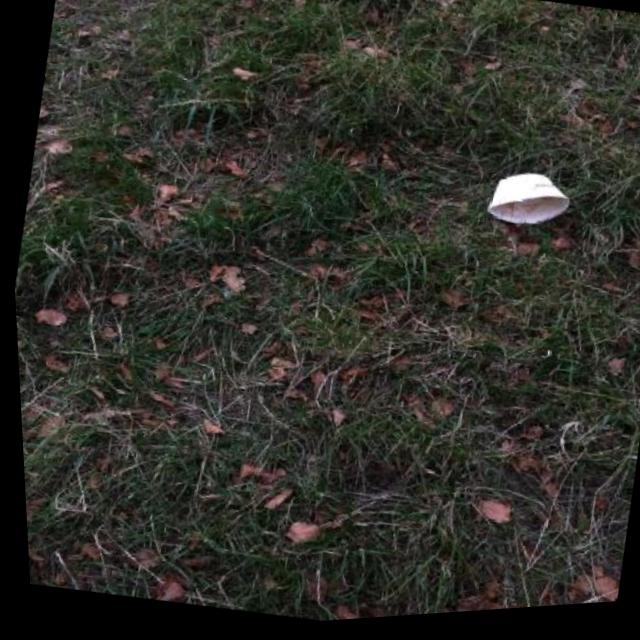cardboard: (482, 163, 576, 236)
